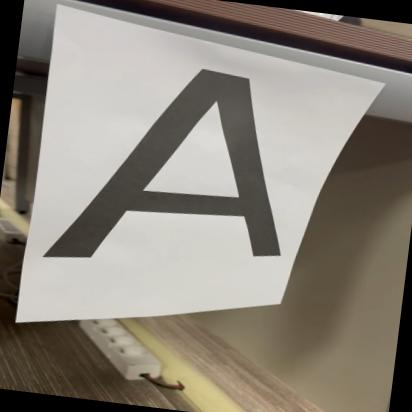seat: (42, 39, 310, 287)
